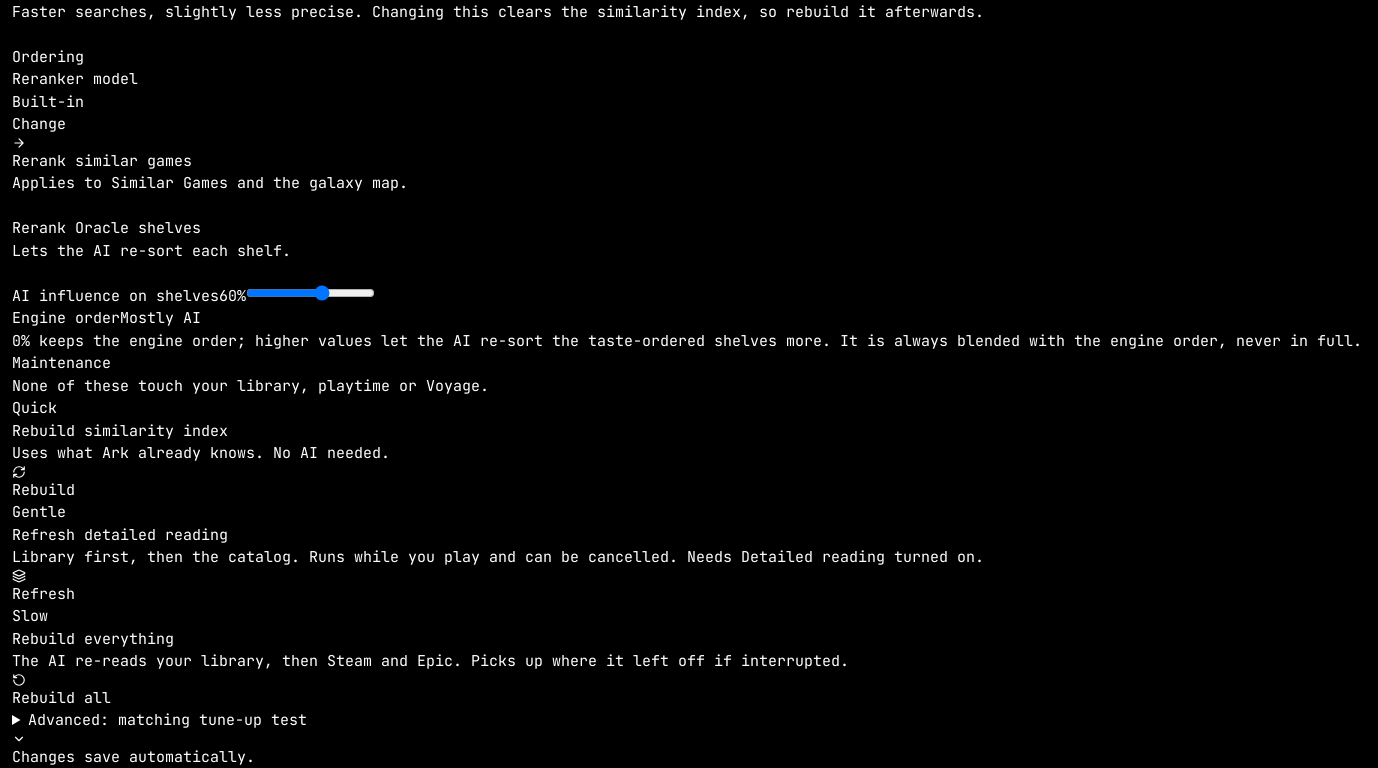
Test: maintenance › Rebuild similarity index runs the service job and reports the count
(page scrolled)
Step 1. Click the button "Rebuild" → (44, 483), box [12, 464, 75, 501]
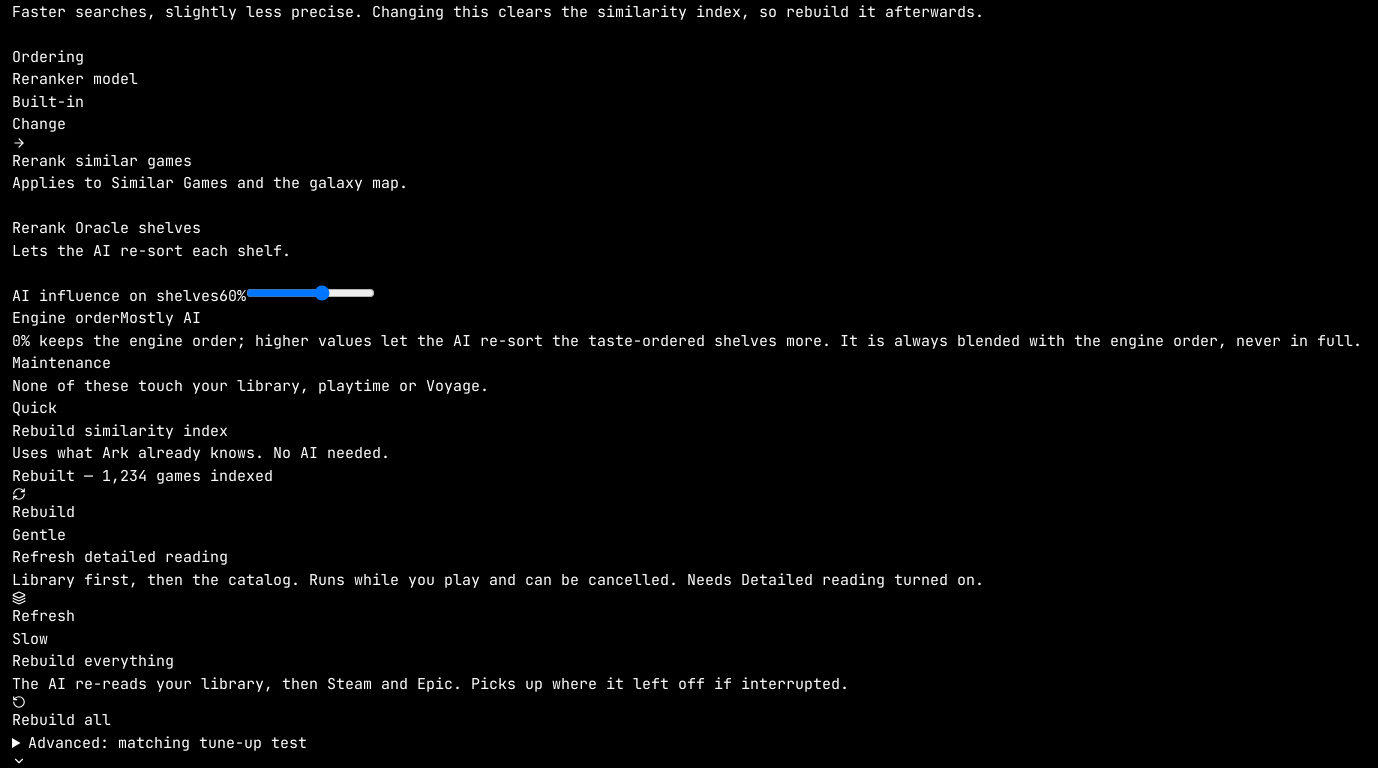
Result: the text "Rebuilt — 1,234 games indexed" is shown at [12, 466, 273, 486]
